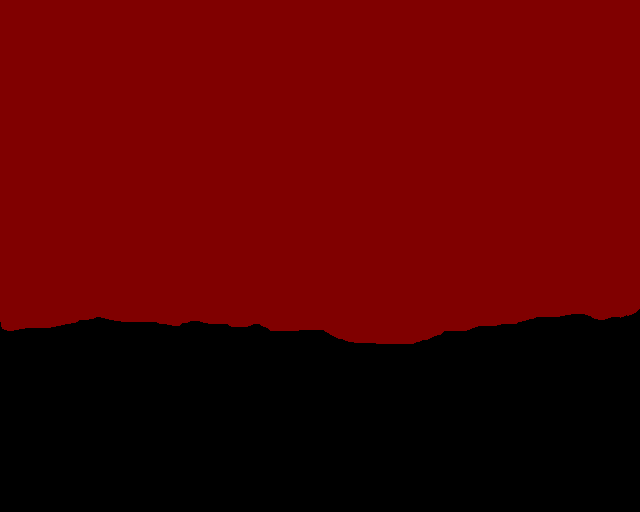Sky: (1, 1, 639, 343)
